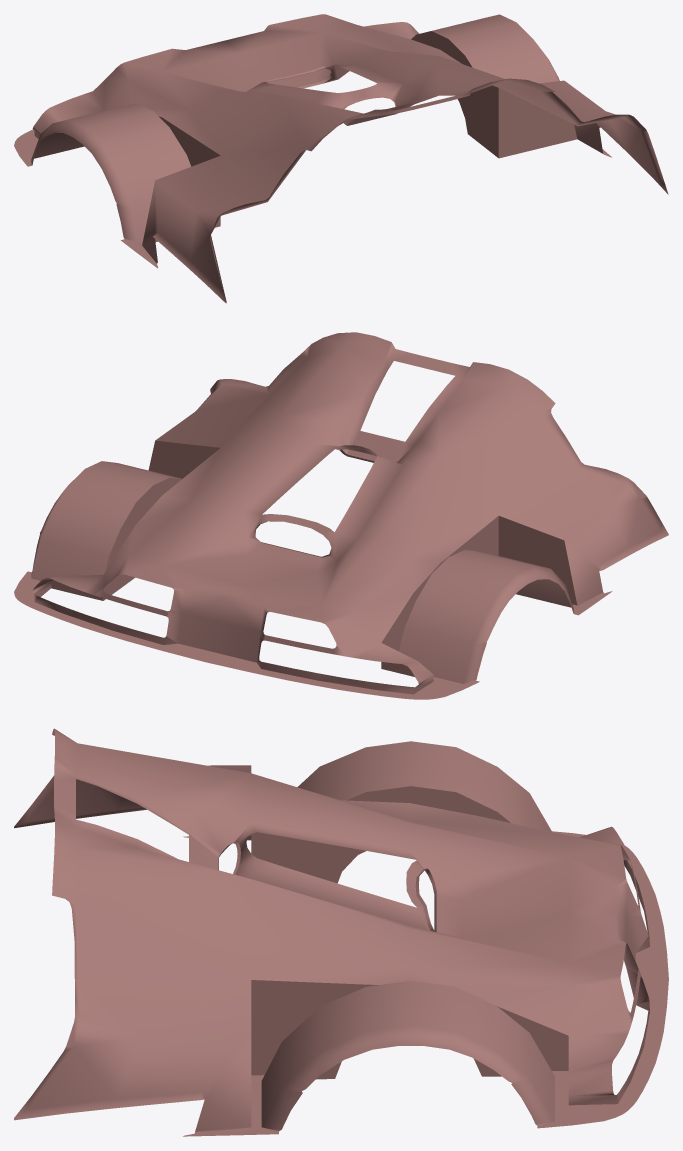
The model's file is Agera_Boot_Trim.fbx.
The picture shows the model from 3 angles, top to bottom: view 1: azimuth 30°, elevation 25°; view 2: azimuth 150°, elevation 25°; view 3: azimuth 270°, elevation 25°; orthographic projection. The views are drawn at different scales.
Visible parts, largest first — view 1: Agera_Boot_Trim; view 2: Agera_Boot_Trim; view 3: Agera_Boot_Trim.
Boxes of the visible parts, box(x1,y1,x2,y2) form: Agera_Boot_Trim: box(14, 14, 668, 303); Agera_Boot_Trim: box(14, 332, 668, 699); Agera_Boot_Trim: box(14, 728, 668, 1136).
Bounding box in the file's own units: 199 × 62.72 × 182.
